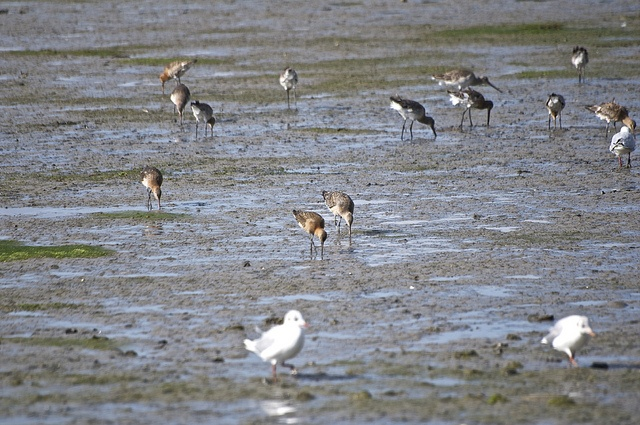Bird: (287, 176, 386, 283), (229, 299, 339, 386), (529, 313, 619, 394), (384, 82, 457, 162), (126, 148, 199, 217), (272, 60, 328, 128), (535, 86, 593, 151), (184, 98, 250, 144), (561, 38, 610, 96)
